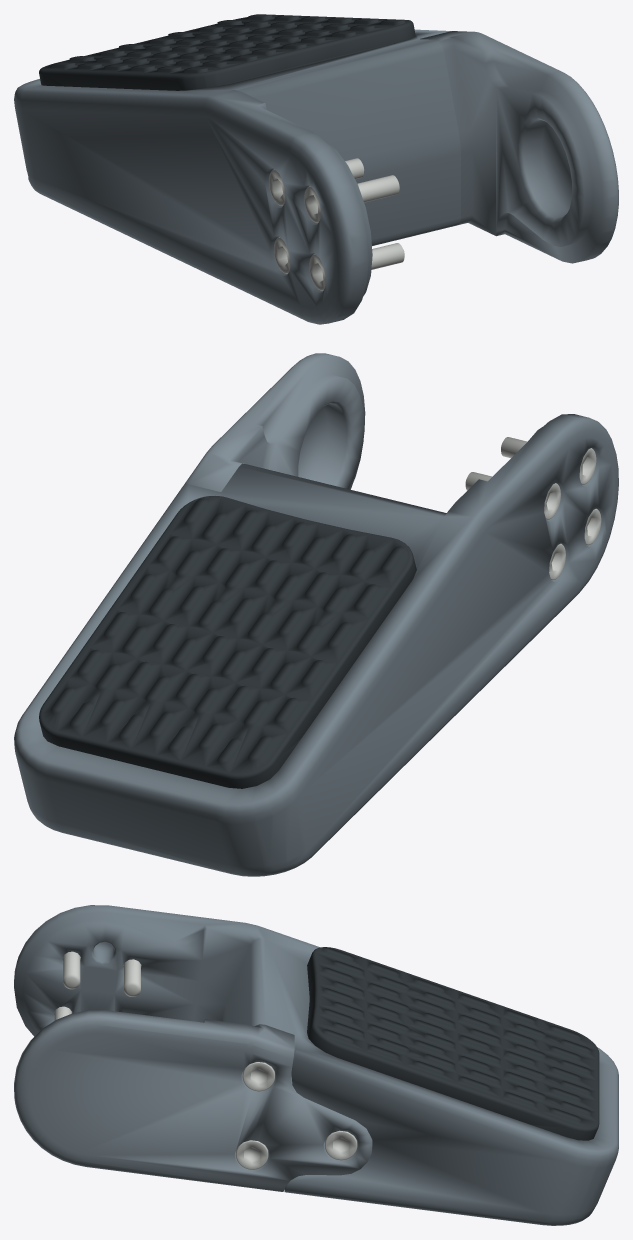
3 renders of one model, top to bottom at view 1: azimuth 30°, elevation 25°; view 2: azimuth 150°, elevation 25°; view 3: azimuth 270°, elevation 25°, orthographic. The views are drawn at different scales.
Visible parts, largest first — view 1: shell_0, cover_0, pad_0, fastener_0; view 2: shell_0, pad_0, cover_0, fastener_0; view 3: shell_0, cover_0, pad_0, fastener_0.
Part boxes in pixels (left/top/right/bottom): shell_0: left=14, top=29, right=460, bottom=324; cover_0: left=420, top=31, right=618, bottom=263; pad_0: left=39, top=14, right=415, bottom=90; fastener_0: left=269, top=158, right=404, bottom=290; shell_0: left=14, top=414, right=618, bottom=876; pad_0: left=39, top=496, right=416, bottom=788; cover_0: left=184, top=353, right=365, bottom=491; fastener_0: left=465, top=437, right=601, bottom=580; shell_0: left=14, top=905, right=618, bottom=1225; cover_0: left=14, top=1010, right=372, bottom=1191; pad_0: left=307, top=947, right=599, bottom=1140; fastener_0: left=54, top=951, right=357, bottom=1169.
Size of the model in its own units: 0.0255 by 0.0219 by 0.0559.
